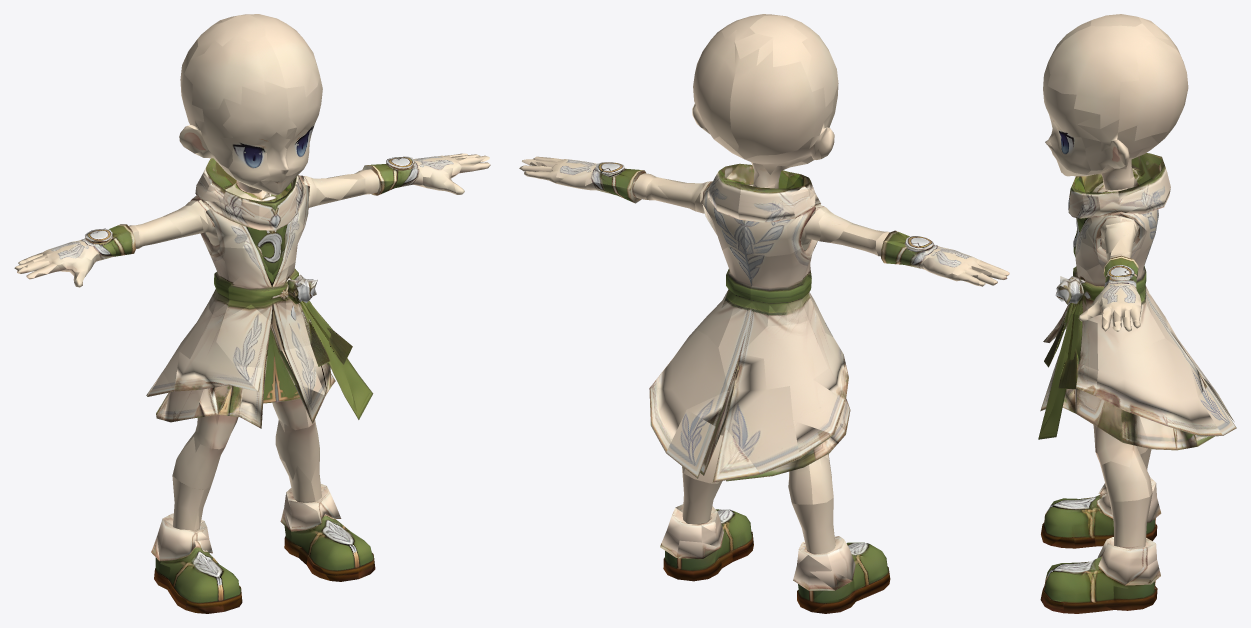
File: moonleaf_meshy.glb
The picture shows the model from 3 angles, left to right: view 1: azimuth 30°, elevation 25°; view 2: azimuth 150°, elevation 25°; view 3: azimuth 270°, elevation 25°; orthographic projection. The views are drawn at different scales.
Bounding box in the file's own units: 1.81 × 2 × 0.6615.
1 material, 1 textured.
